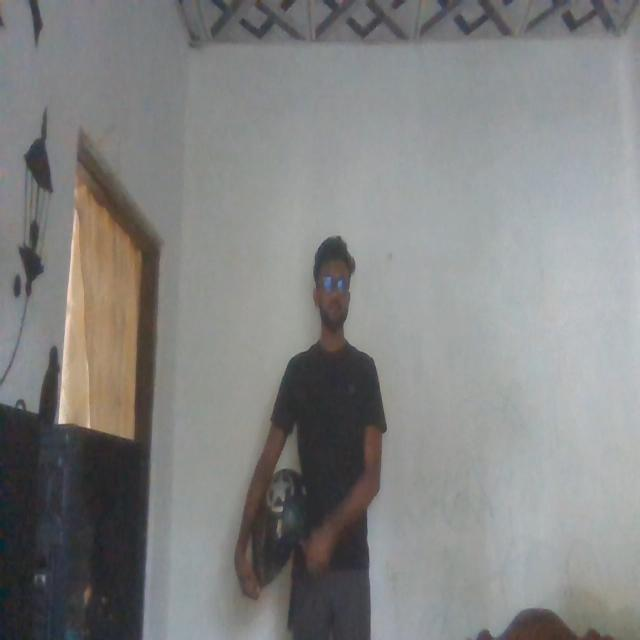Person: (271, 230, 387, 636)
